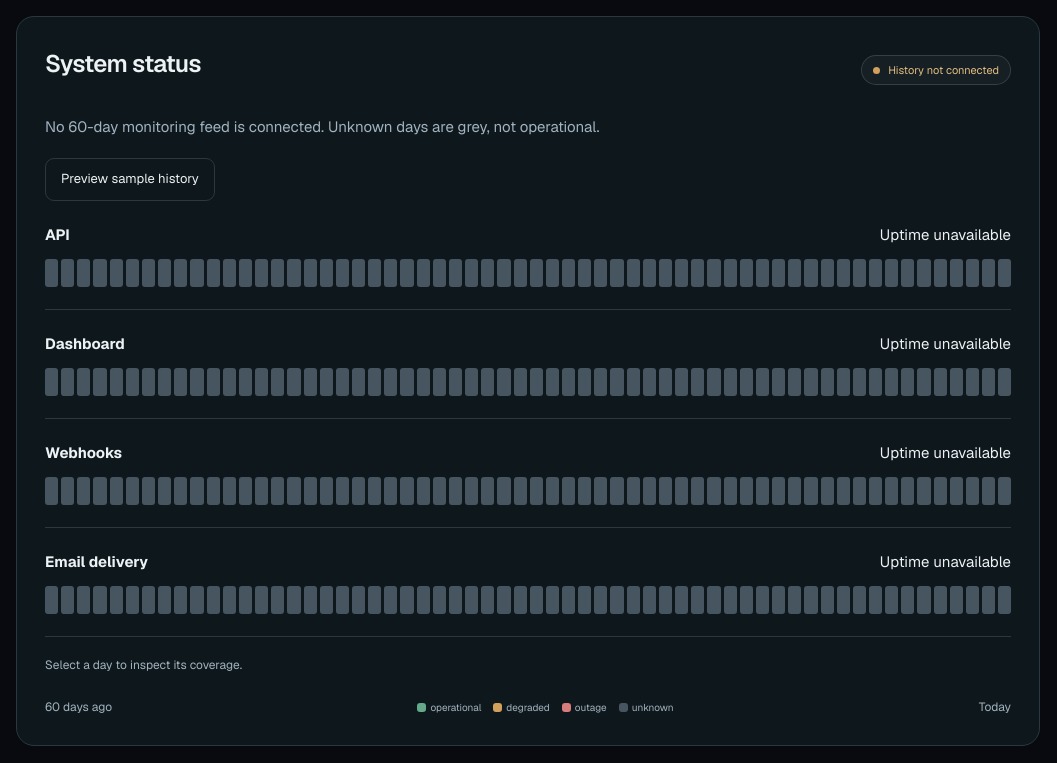
Test: unknown status renders sixty neutral bars per service; demo is explicit
Click the button "Preview sample history" at [130, 180], box x1=45 y1=158 x2=215 y2=201
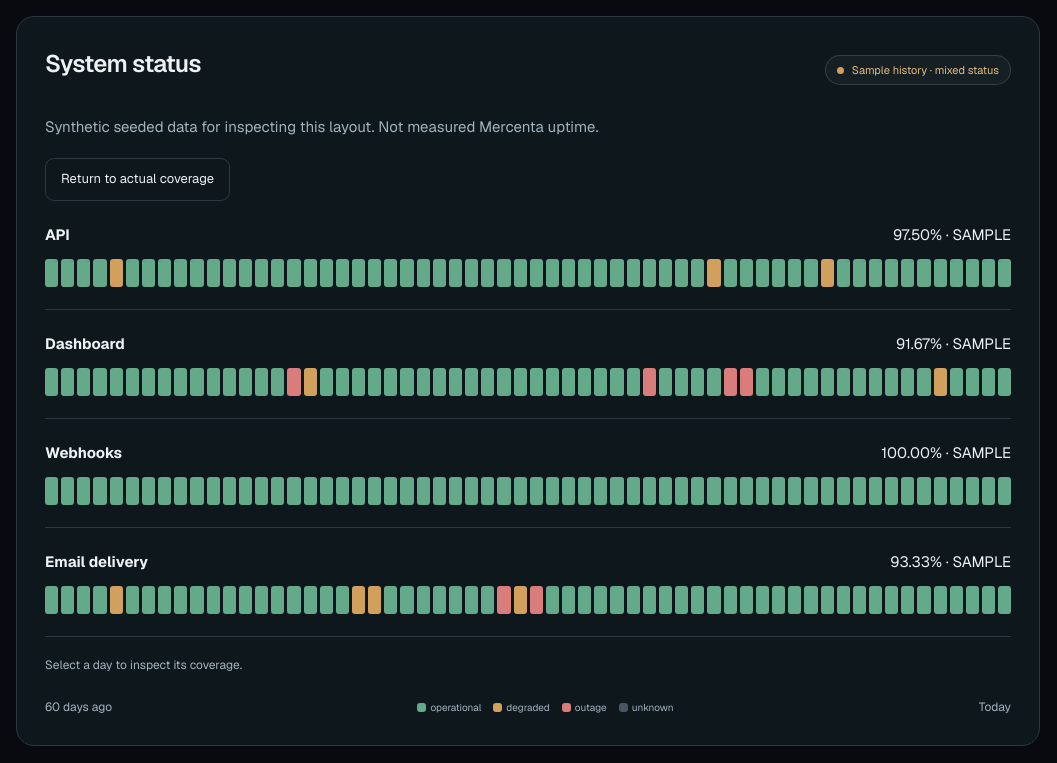
Expected: the text "Sample" is shown, x1=852 y1=63 x2=999 y2=77
Now the text "Not measured Mercenta uptime" is shown, box x1=45 y1=117 x2=598 y2=136
